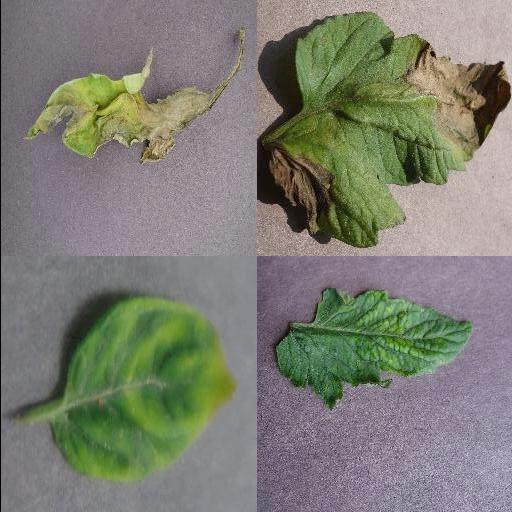Late Blight: (266, 12, 510, 248), (20, 29, 244, 167)
Mosaic Virus: (277, 288, 475, 408)
Yellow Leaf Curl Virus: (55, 296, 237, 481)
